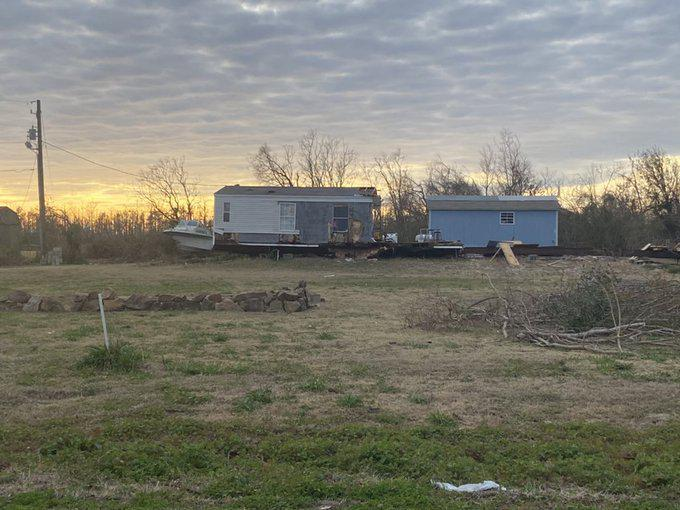affected: (422, 189, 566, 253)
major: (216, 181, 396, 261)
